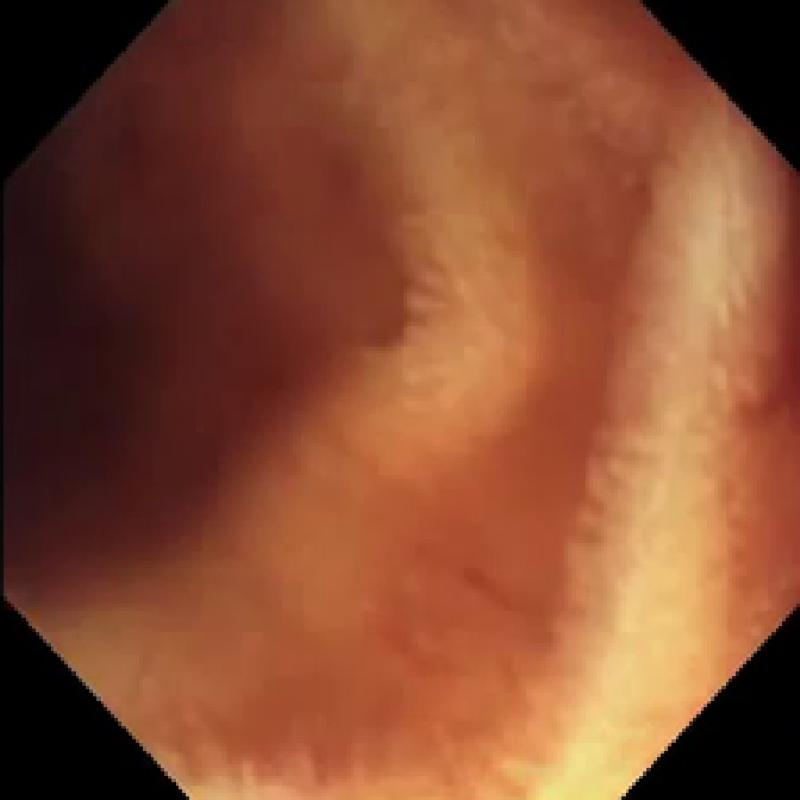bleeding: (0, 11, 800, 711)
